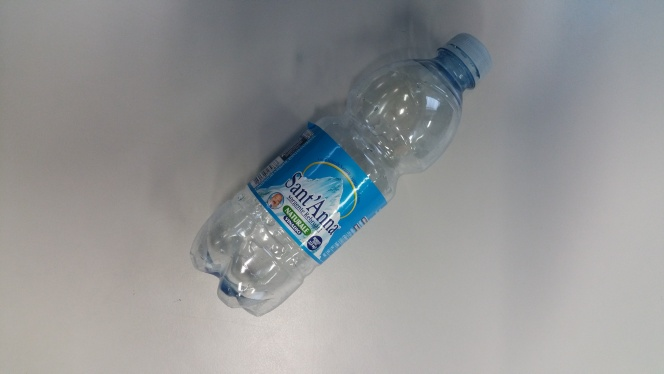bottle: (175, 28, 495, 318)
